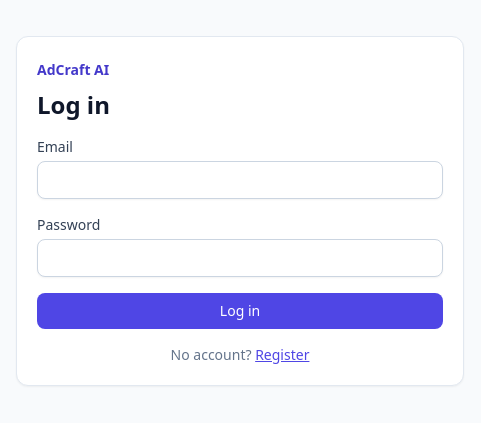
Test: auth form validation › login blocks empty submit and shows errors
Click the button "Log in" at (240, 311), box [37,293,443,329]
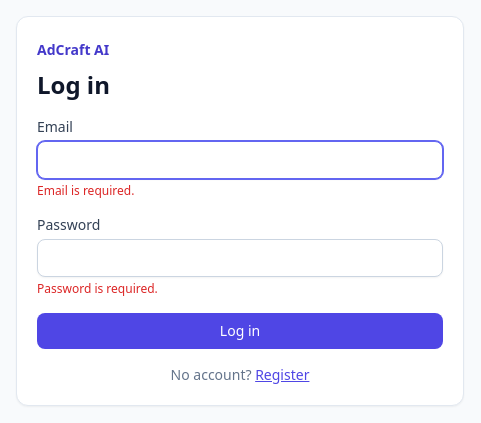
Result: the text "Email is required." is shown at [37,182,134,199]
Result: the text "Password is required." is shown at [37,280,158,297]
